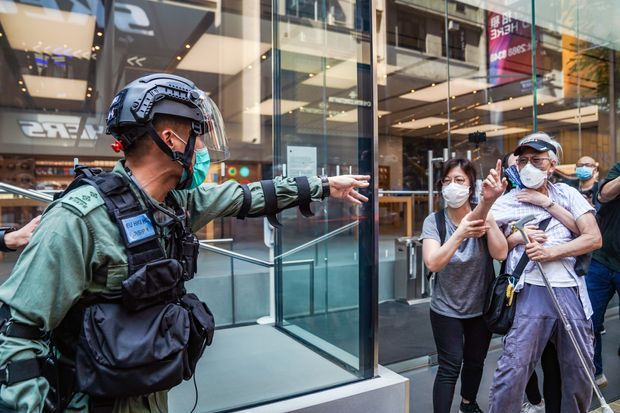uniform: (32, 164, 200, 396)
